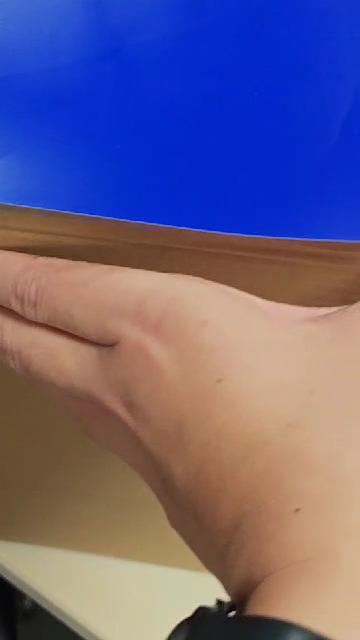B_R1: (0, 0, 195, 110)
